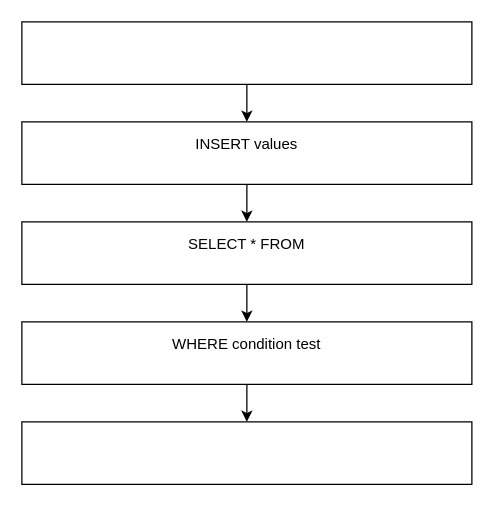
This 494x506 diagram has some shape labels left out. Here are the shapes that lost their labels. From the top down, the box of each, then its label:
(21, 21, 472, 84): Start: CREATE TABLE transactions
(21, 421, 472, 484): End
